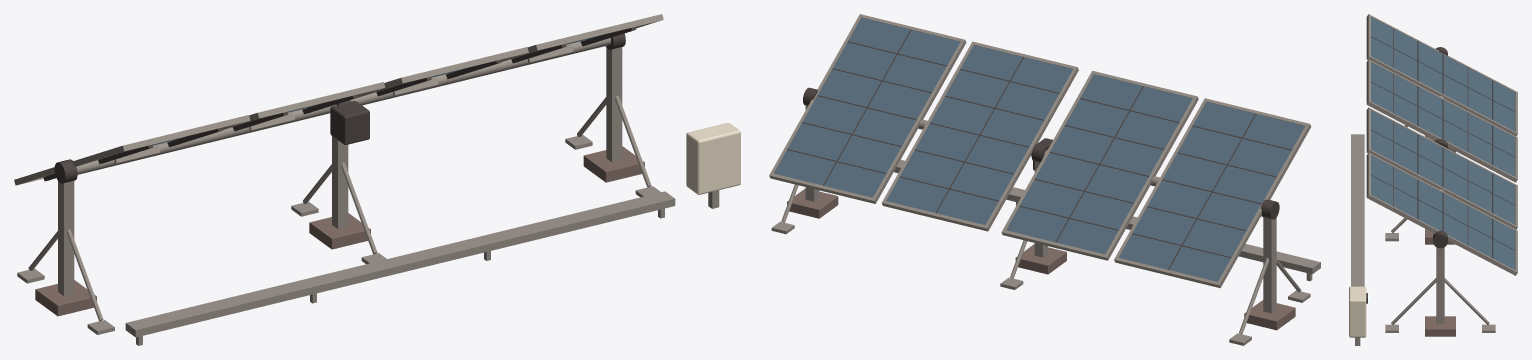
Rendered from building_solar_array.glb.
3 views of the same model, side by side, from view 1: azimuth 30°, elevation 25°; view 2: azimuth 150°, elevation 25°; view 3: azimuth 270°, elevation 25° (orthographic). The views are drawn at different scales.
Visible parts, largest first — view 1: frame-col, tray-col, panel_1, panel_3, panel_4, panel_2; view 2: panel_2, panel_3, panel_4, panel_1, frame-col, tray-col; view 3: panel_2, panel_4, panel_3, panel_1, tray-col, frame-col.
Boxes of the visible parts, box(x1,y1,x2,y2) form: frame-col: box(17, 33, 660, 334); tray-col: box(125, 123, 740, 345); panel_1: box(14, 115, 250, 185); panel_3: box(354, 47, 528, 98); panel_4: box(501, 14, 663, 63); panel_2: box(222, 82, 385, 131); panel_2: box(1001, 71, 1198, 260); panel_3: box(882, 41, 1078, 231); panel_4: box(769, 14, 966, 203); panel_1: box(1114, 98, 1311, 288); frame-col: box(771, 87, 1310, 345); tray-col: box(894, 160, 1320, 281); panel_2: box(1366, 59, 1517, 182); panel_4: box(1366, 152, 1517, 275); panel_3: box(1366, 107, 1517, 229); panel_1: box(1366, 14, 1517, 136); tray-col: box(1349, 134, 1366, 345); frame-col: box(1385, 47, 1495, 336).
Size of the model in its own units: 7.22 by 2.17 by 2.45.
